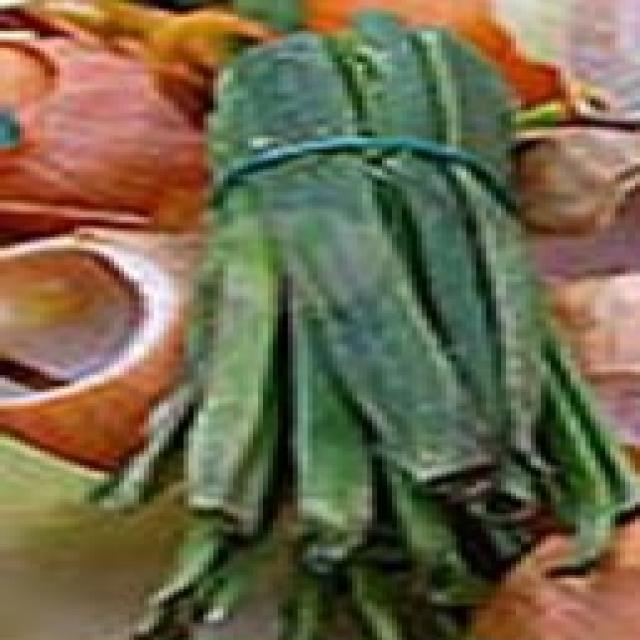food waste: (67, 0, 640, 611)
